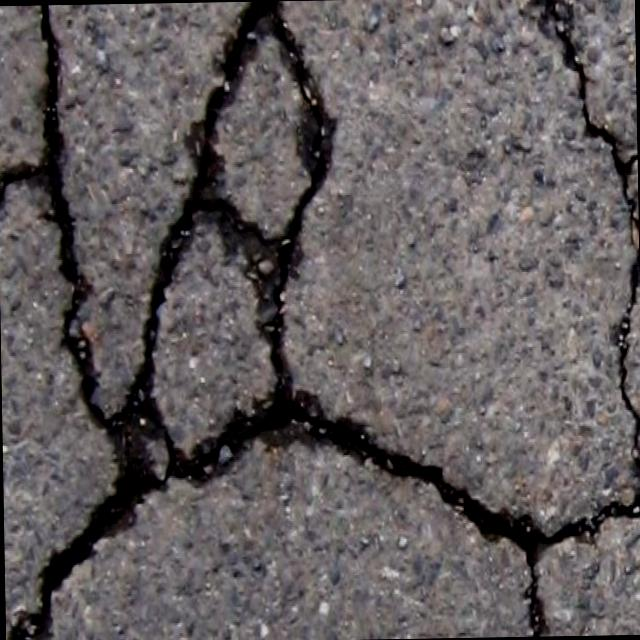crack: (517, 0, 640, 635), (177, 388, 528, 558), (0, 6, 112, 434), (4, 433, 184, 640), (258, 2, 345, 388), (165, 3, 264, 269), (110, 210, 173, 432)
